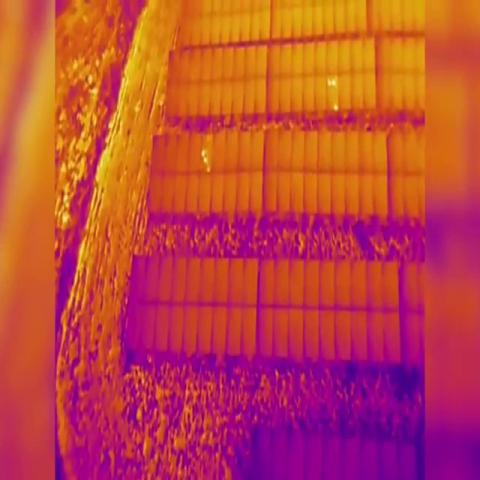fault: (206, 165, 212, 175), (332, 79, 338, 89), (334, 98, 338, 113), (200, 149, 206, 158), (202, 155, 207, 164), (328, 78, 332, 88)
